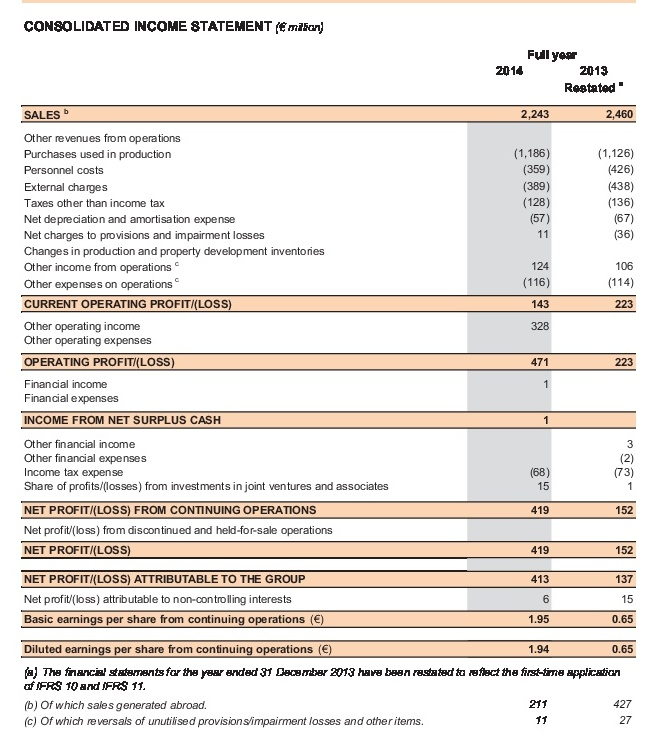table: (0, 0, 662, 742)
